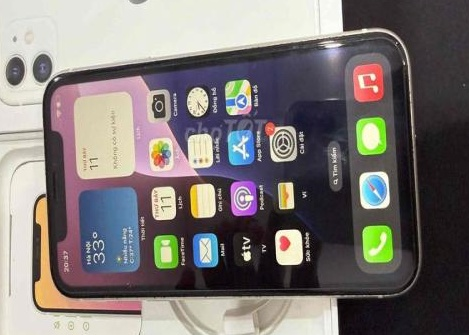scratch: (287, 32, 415, 67), (408, 98, 420, 209), (49, 68, 65, 84), (120, 277, 133, 291)
